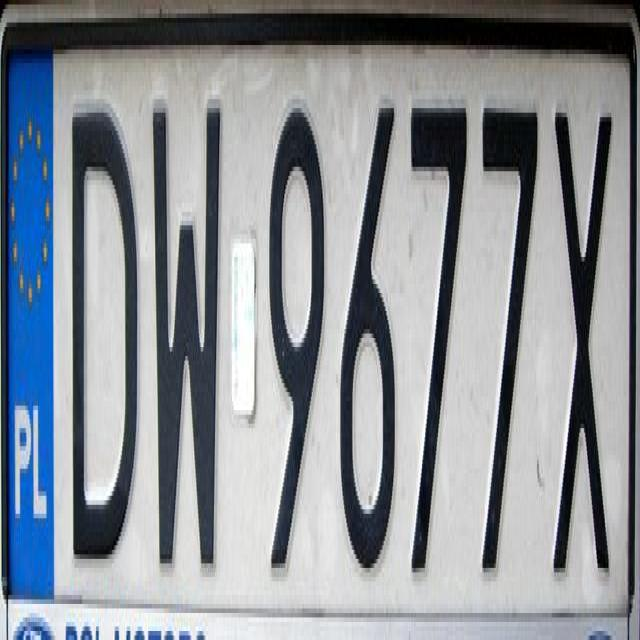pl_license_plate: (7, 49, 630, 608)
